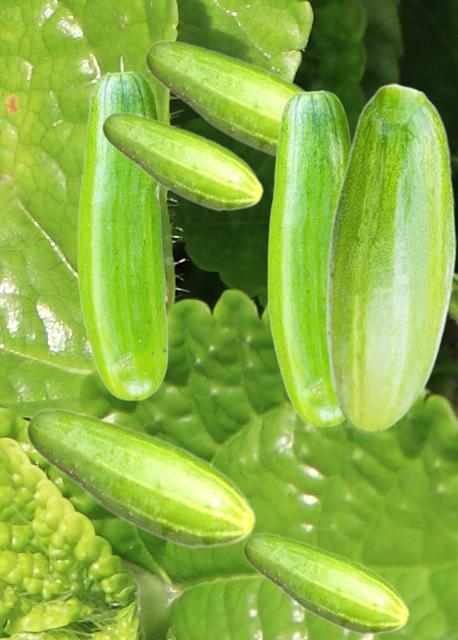cucumber: (325, 83, 455, 433), (25, 407, 256, 549), (77, 70, 167, 400), (267, 89, 351, 426), (144, 39, 306, 158), (242, 532, 409, 635), (101, 111, 263, 211)
